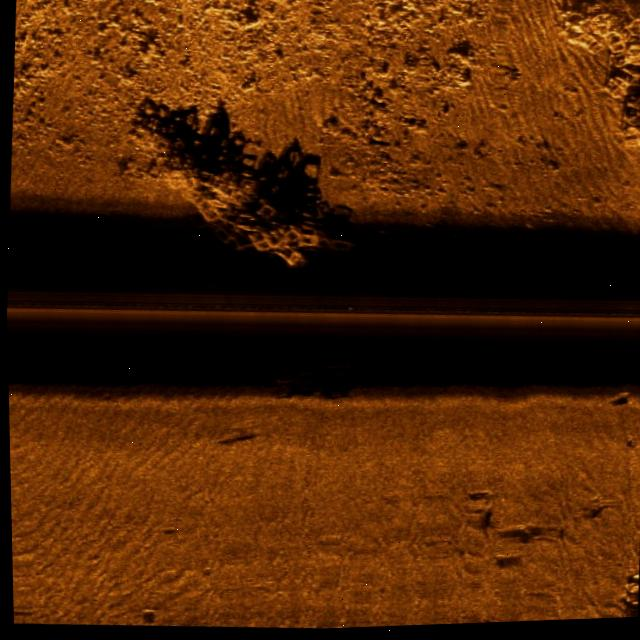artificial reef: (101, 91, 350, 273), (560, 7, 640, 160), (253, 350, 351, 412)
